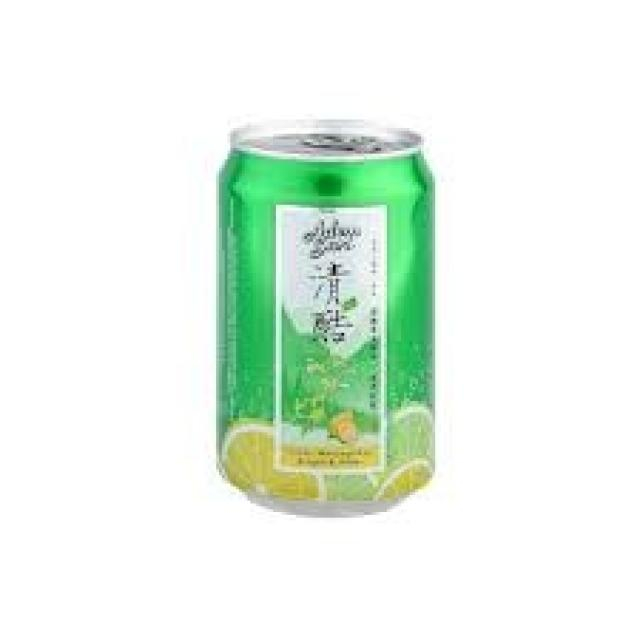ademsarikaleng: (211, 114, 438, 518)
